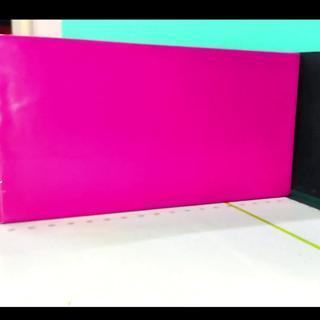xparking: (1, 37, 298, 223)
